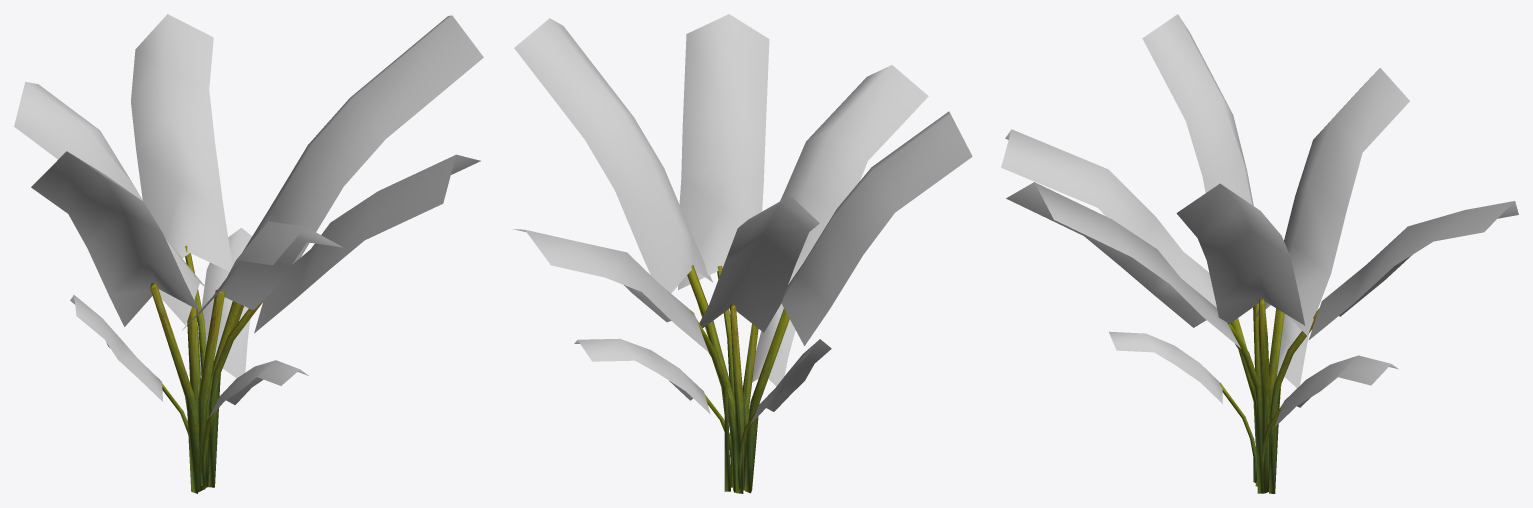
File: plant h 2.fbx
3 renders of one model, left to right at view 1: azimuth 30°, elevation 25°; view 2: azimuth 150°, elevation 25°; view 3: azimuth 270°, elevation 25°, orthographic. The views are drawn at different scales.
Visible parts, largest first — view 1: ploantH; view 2: ploantH; view 3: ploantH.
Boxes of the visible parts, <box> form: ploantH: <box>14,14,483,493</box>; ploantH: <box>513,14,972,493</box>; ploantH: <box>1001,14,1518,493</box>.
Size of the model in its own units: 102 by 93.07 by 106.
